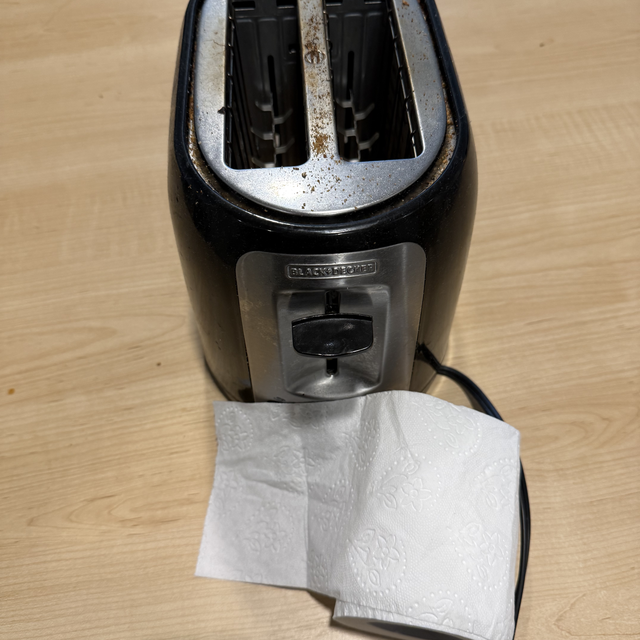Toaster: (172, 0, 481, 422)
Toilet Paper: (214, 395, 523, 626)
